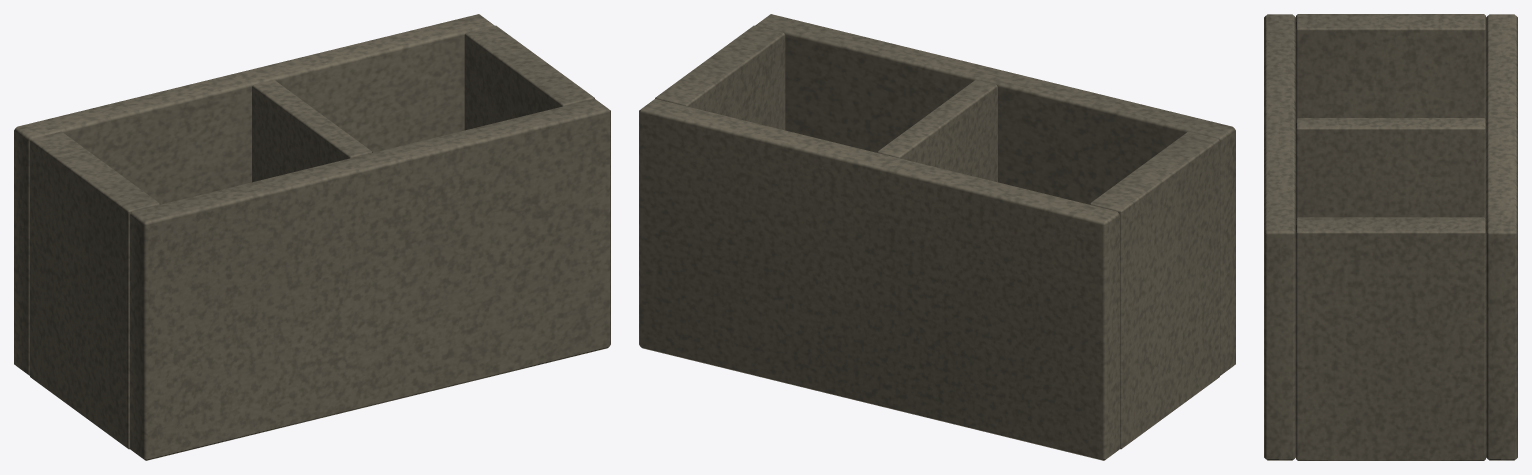
The model's file is pustak_beton.glb.
3 views of the same model, side by side, from view 1: azimuth 30°, elevation 25°; view 2: azimuth 150°, elevation 25°; view 3: azimuth 270°, elevation 25° (orthographic). The views are drawn at different scales.
Visible parts, largest first — view 1: Pustak — dwie otwarte komory; view 2: Pustak — dwie otwarte komory; view 3: Pustak — dwie otwarte komory.
Boxes of the visible parts, x1=… form: Pustak — dwie otwarte komory: x1=14, y1=14, x2=610, y2=460; Pustak — dwie otwarte komory: x1=639, y1=14, x2=1235, y2=460; Pustak — dwie otwarte komory: x1=1264, y1=14, x2=1517, y2=460.
Size of the model in its own units: 0.49 by 0.24 by 0.24.
Materials: 1 (1 with a texture image).
